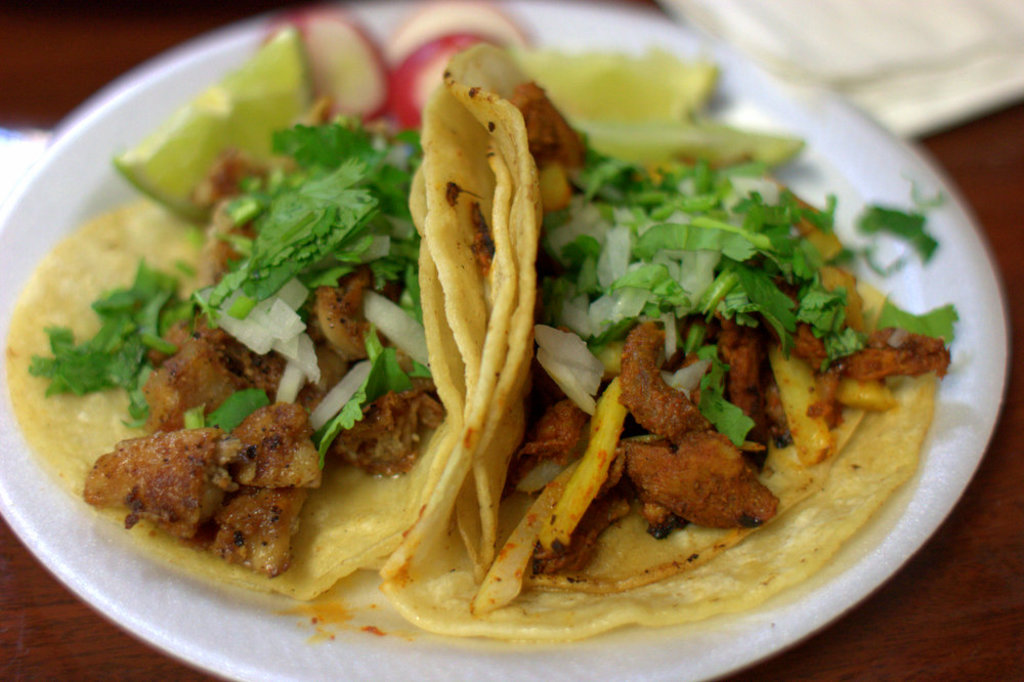taco: (382, 30, 910, 648), (4, 132, 469, 631)
